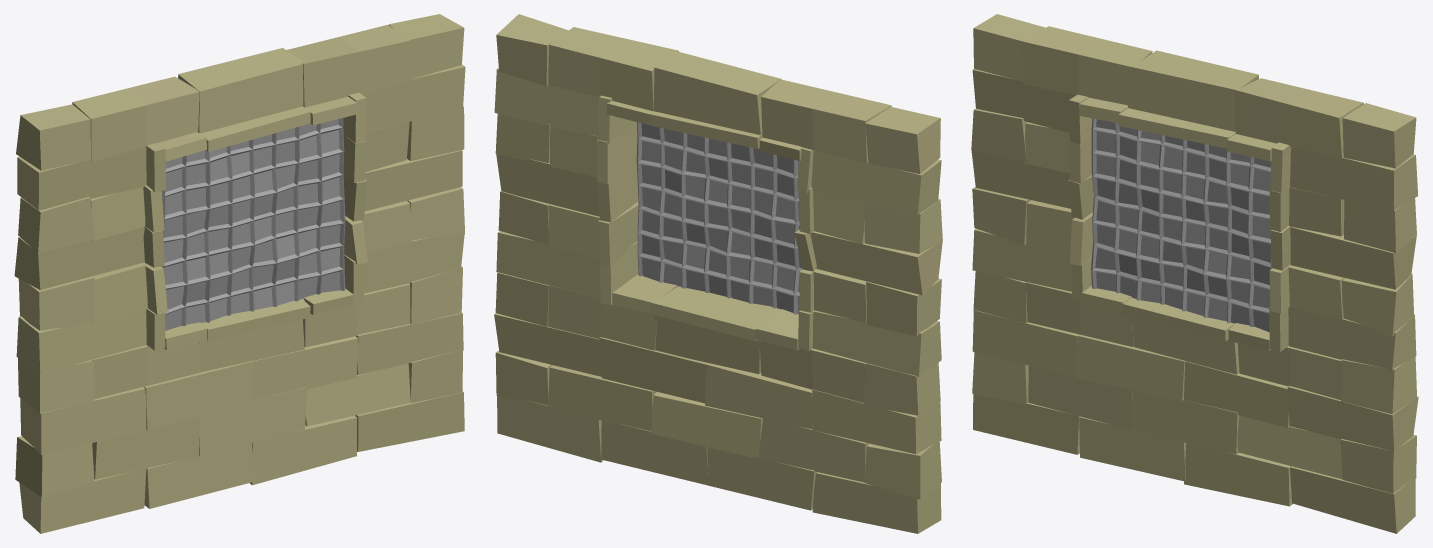
The model's file is WallTypeA.fbx.
3 views of the same model, side by side, from view 1: azimuth 30°, elevation 25°; view 2: azimuth 150°, elevation 25°; view 3: azimuth 330°, elevation 25° (orthographic).
Visible parts, largest first — view 1: WallTypeA; view 2: WallTypeA; view 3: WallTypeA.
Boxes of the visible parts, bbox=[...] form: WallTypeA: bbox=[14, 14, 465, 533]; WallTypeA: bbox=[494, 14, 942, 533]; WallTypeA: bbox=[971, 14, 1418, 533].
Bounding box in the file's own units: 1012 × 924 × 162.
